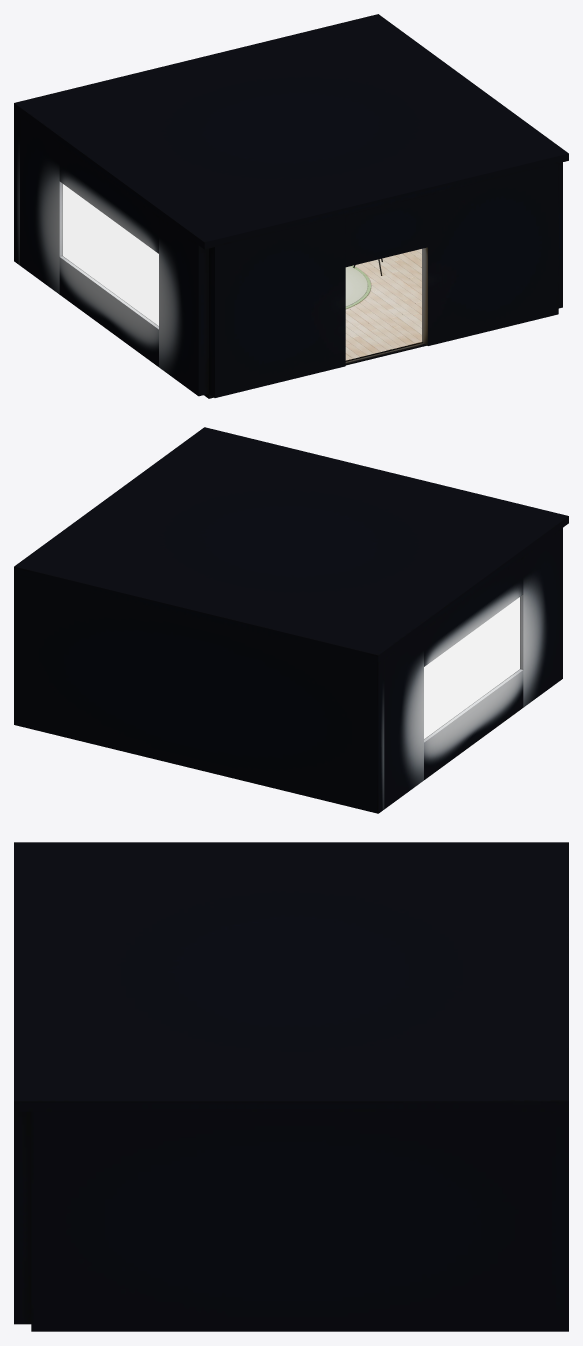
The model's file is room_birds.glb.
3 renders of one model, top to bottom at view 1: azimuth 30°, elevation 25°; view 2: azimuth 150°, elevation 25°; view 3: azimuth 270°, elevation 25°, orthographic. The views are drawn at different scales.
Visible parts, largest first — view 1: baked_ceiling, baked_walls, window_glass, baked_floor, baked_furn; view 2: baked_walls, baked_ceiling, window_glass; view 3: baked_ceiling, baked_walls.
Boxes of the visible parts, x1,y1,x2,y2 form: baked_ceiling: (14, 14, 568, 249); baked_walls: (14, 110, 562, 397); window_glass: (63, 184, 158, 325); baked_floor: (204, 249, 426, 398); baked_furn: (345, 258, 382, 308); baked_walls: (14, 528, 562, 813); baked_ceiling: (14, 427, 568, 662); window_glass: (424, 597, 519, 738); baked_ceiling: (14, 842, 568, 1111); baked_walls: (14, 1111, 568, 1331).
Bounding box in the file's own units: 10.6 × 4.54 × 9.6.
6 materials, 4 textured.
